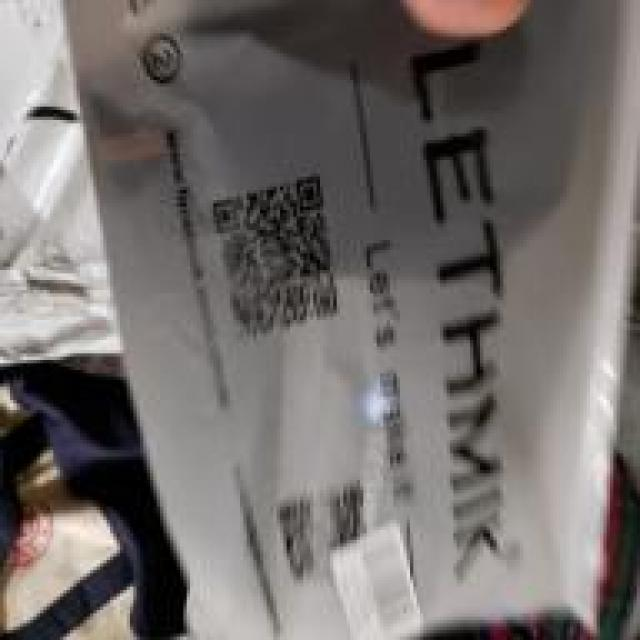QR_CODE: (202, 160, 350, 360), (270, 464, 377, 604)
